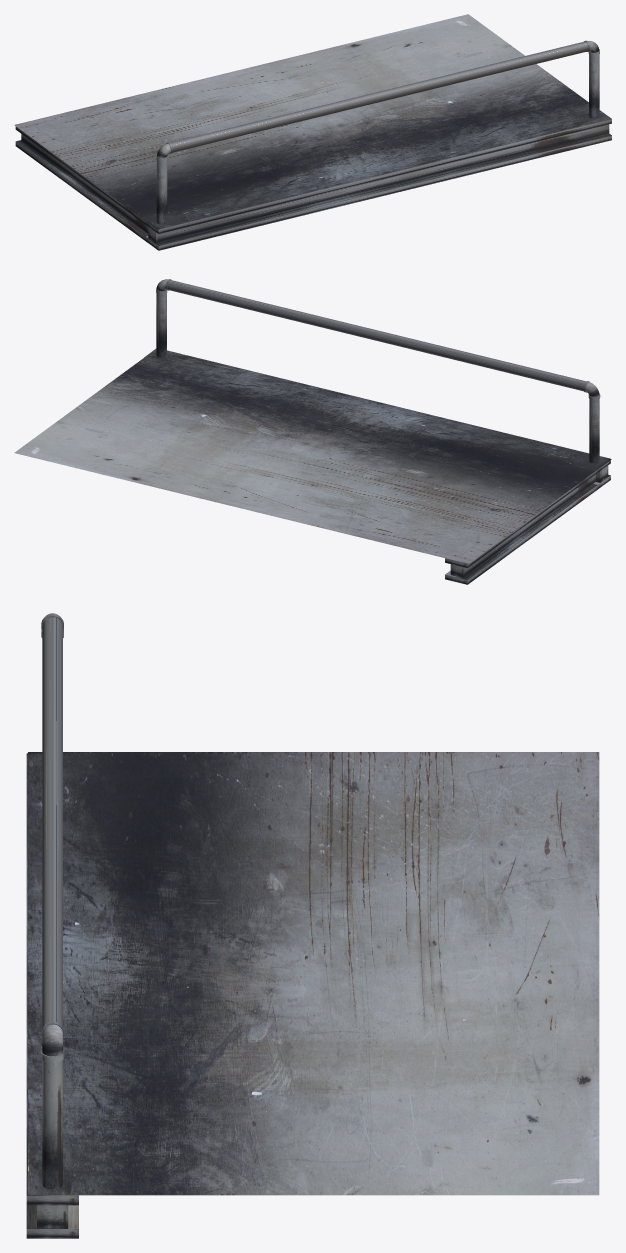
Rendered from catwalk_middle.FBX.
3 renders of one model, top to bottom at view 1: azimuth 30°, elevation 25°; view 2: azimuth 150°, elevation 25°; view 3: azimuth 270°, elevation 25°, orthographic. The views are drawn at different scales.
Visible parts, largest first — view 1: Plane001, Cylinder005, Box002, Box001, Box003, Box006, Box005, Cylinder006, Cylinder007, Box004; view 2: Plane001, Cylinder005, Box006, Box005, Cylinder006, Box004, Cylinder007, Box003; view 3: Plane001, Cylinder005, Cylinder002, Box003, Box001.
Boxes of the visible parts, x1=… form: Plane001: x1=14, y1=14, x2=610, y2=229; Cylinder005: x1=166, y1=40, x2=599, y2=153; Box002: x1=148, y1=124, x2=609, y2=243; Box001: x1=145, y1=133, x2=611, y2=250; Box003: x1=145, y1=110, x2=611, y2=233; Box006: x1=15, y1=140, x2=148, y2=240; Box005: x1=21, y1=134, x2=148, y2=233; Cylinder006: x1=156, y1=155, x2=167, y2=224; Cylinder007: x1=588, y1=49, x2=599, y2=118; Box004: x1=15, y1=126, x2=145, y2=224; Plane001: x1=14, y1=349, x2=611, y2=563; Cylinder005: x1=156, y1=279, x2=589, y2=392; Box006: x1=445, y1=484, x2=597, y2=584; Box005: x1=450, y1=474, x2=595, y2=577; Cylinder006: x1=588, y1=393, x2=600, y2=463; Box004: x1=445, y1=470, x2=597, y2=567; Cylinder007: x1=156, y1=288, x2=167, y2=357; Box003: x1=144, y1=349, x2=610, y2=472; Plane001: x1=28, y1=752, x2=599, y2=1195; Cylinder005: x1=41, y1=614, x2=63, y2=1056; Cylinder002: x1=42, y1=1055, x2=62, y2=1189; Box003: x1=26, y1=753, x2=78, y2=1205; Box001: x1=26, y1=1205, x2=78, y2=1238.
Size of the model in its own units: 10.03 by 2.08 by 5.47.
Materials: 1 (1 with a texture image).
